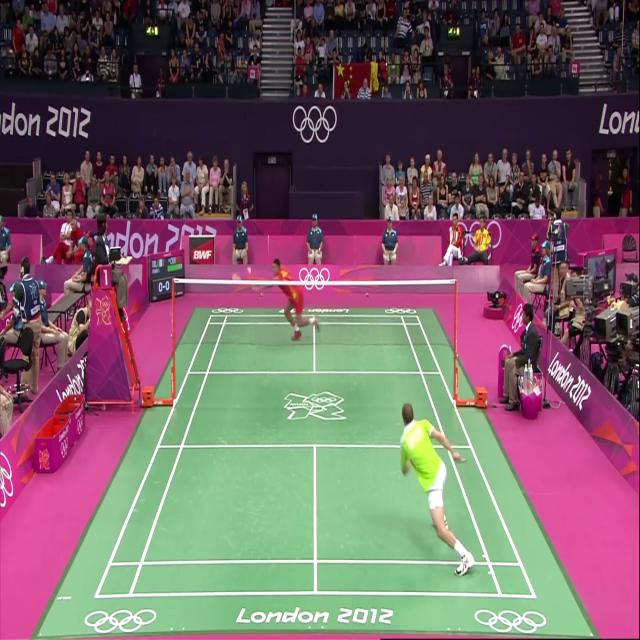Net: (174, 278, 458, 379)
Player1: (395, 326, 470, 587)
Player2: (272, 233, 308, 363)
